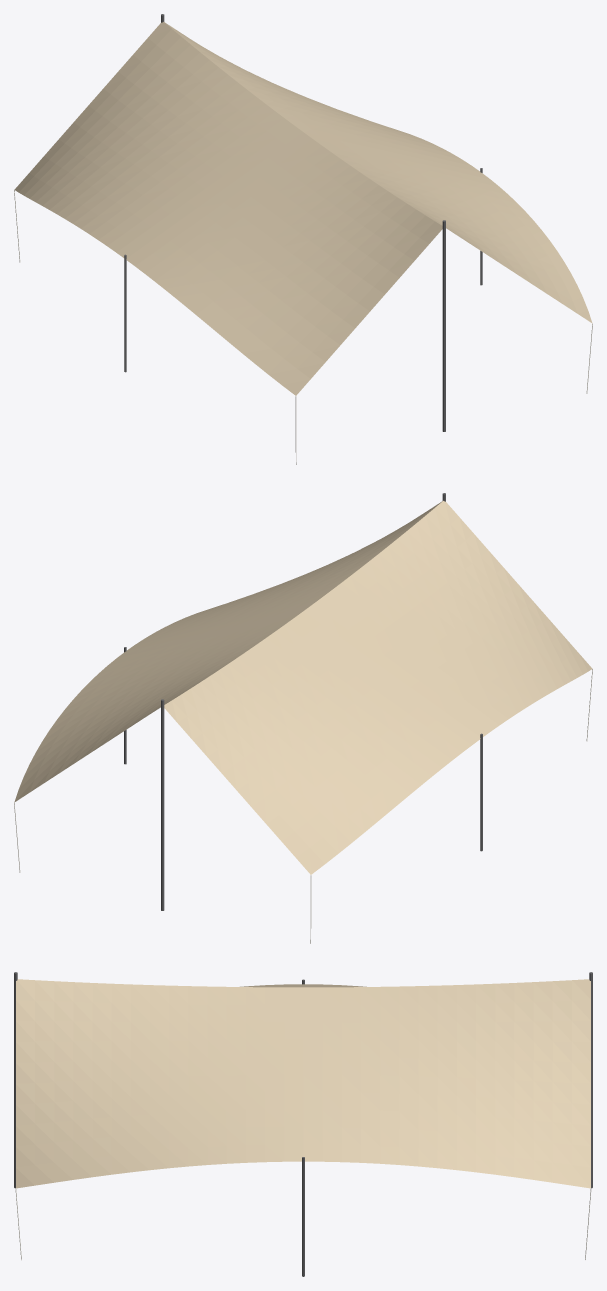
Rendered from g_atarp_v2.glb.
The picture shows the model from 3 angles, top to bottom: view 1: azimuth 30°, elevation 25°; view 2: azimuth 150°, elevation 25°; view 3: azimuth 270°, elevation 25°; orthographic projection. The views are drawn at different scales.
Visible parts, largest first — view 1: roof, frame_1; view 2: roof, frame; view 3: roof, frame_1, frame.
Boxes of the visible parts, box(x1,y1,x2,y2) form: roof: box(14, 22, 592, 395); frame_1: box(442, 220, 445, 431); roof: box(14, 500, 592, 874); frame: box(161, 699, 164, 910); roof: box(16, 979, 590, 1188); frame_1: box(14, 972, 17, 1188); frame: box(589, 972, 592, 1188).
Bounding box in the file's own units: 3.67 × 2.06 × 5.03.
